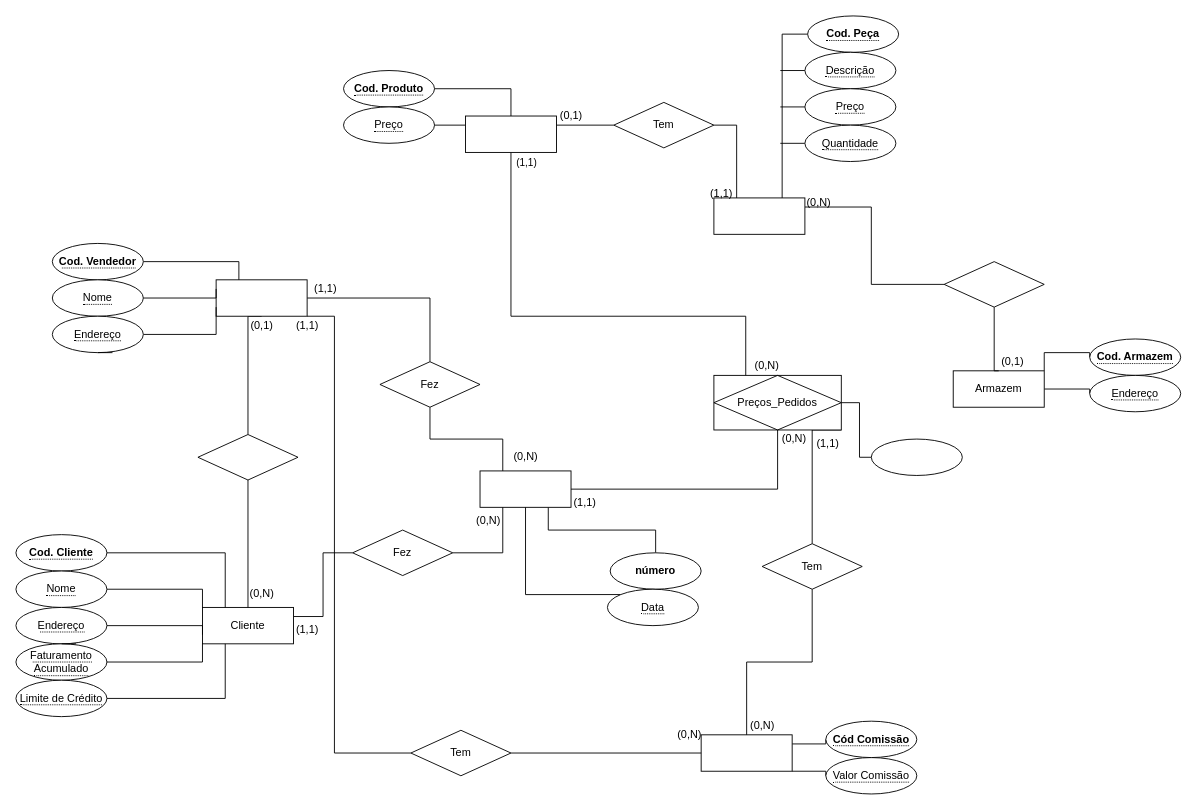
Some shapes in this 1197 by 810 pixel diagram are drawn without their labels. Here are the shapes that lost their labels. From the top down, the box of each, then its label:
(465, 115, 556, 152): Preços
(713, 197, 805, 234): Peça
(215, 279, 307, 316): Vendedor
(943, 261, 1044, 307): Estocada
(197, 434, 298, 480): Atende
(870, 438, 962, 475): Preço Cotado
(479, 470, 571, 507): Pedido
(700, 734, 792, 771): Comissão
